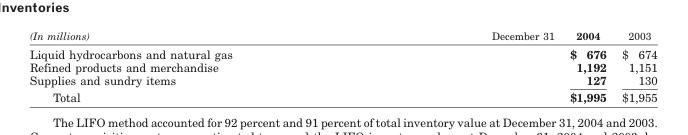table: (28, 28, 656, 104)
table column: (28, 28, 361, 104), (361, 28, 561, 104), (561, 28, 613, 104), (613, 28, 656, 104)
table column header: (28, 28, 656, 44)
table row: (28, 28, 656, 44), (28, 44, 656, 60), (28, 88, 656, 104), (28, 73, 656, 88), (28, 60, 656, 73)
